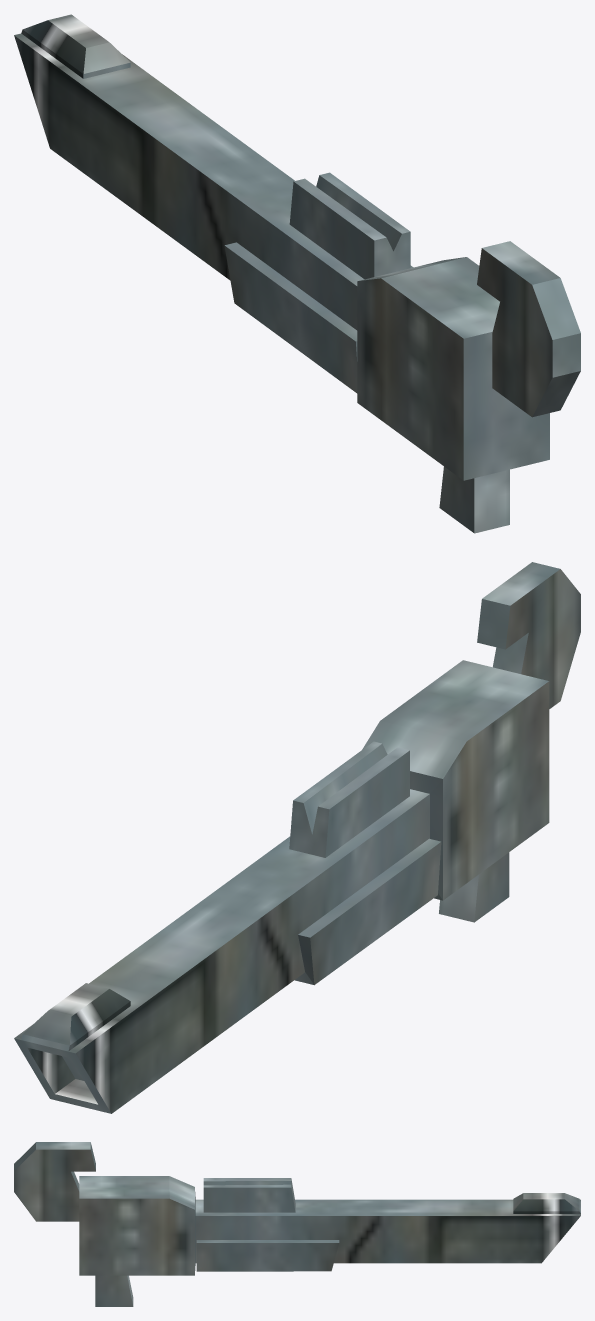
Rendered from LinearRifle.gltf.
3 views of the same model, one above another, from view 1: azimuth 30°, elevation 25°; view 2: azimuth 150°, elevation 25°; view 3: azimuth 270°, elevation 25° (orthographic). The views are drawn at different scales.
Parts seen in each view (by area): view 1: Riner; view 2: Riner; view 3: Riner.
Part boxes in pixels (left/top/right/bottom): Riner: left=14, top=14, right=580, bottom=533; Riner: left=14, top=562, right=580, bottom=1113; Riner: left=14, top=1142, right=580, bottom=1306.
Bounding box in the file's own units: 0.3665 × 1.17 × 3.84.
Materials: 1 (1 with a texture image).
